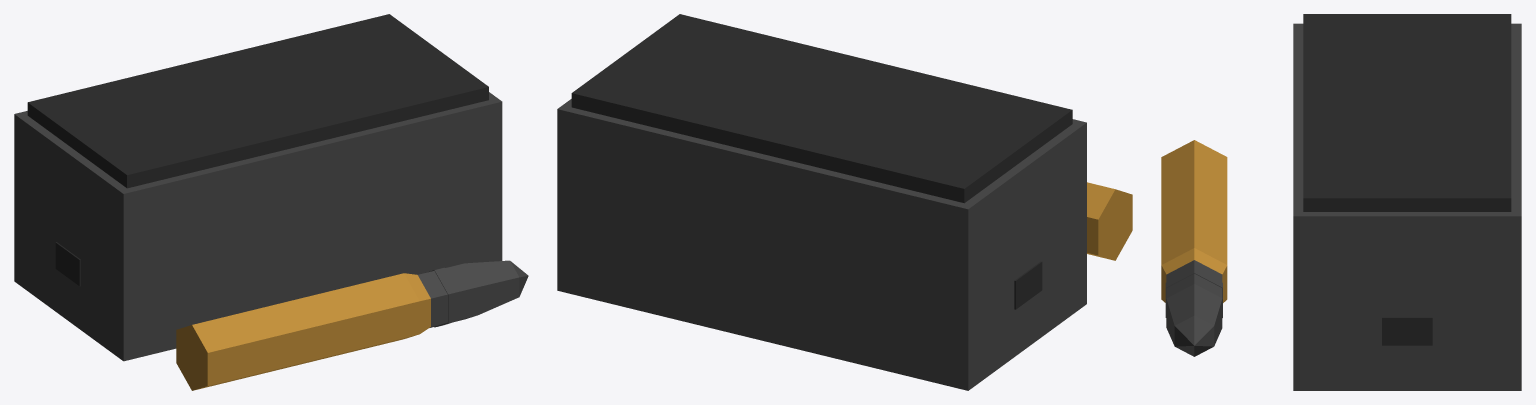
File: ce_ammo_heavy_ap_c.obj
The picture shows the model from 3 angles, left to right: view 1: azimuth 30°, elevation 25°; view 2: azimuth 150°, elevation 25°; view 3: azimuth 270°, elevation 25°; orthographic projection. The views are drawn at different scales.
Visible parts, largest first — view 1: ce_ammo_heavy_ap_c_0, ce_ammo_heavy_ap_c_1, ce_ammo_heavy_ap_c_3, ce_ammo_heavy_ap_c_8, ce_ammo_heavy_ap_c_7, ce_ammo_heavy_ap_c_5, ce_ammo_heavy_ap_c_2, ce_ammo_heavy_ap_c_4, ce_ammo_heavy_ap_c_6; view 2: ce_ammo_heavy_ap_c_0, ce_ammo_heavy_ap_c_1, ce_ammo_heavy_ap_c_3, ce_ammo_heavy_ap_c_2; view 3: ce_ammo_heavy_ap_c_0, ce_ammo_heavy_ap_c_1, ce_ammo_heavy_ap_c_3, ce_ammo_heavy_ap_c_8, ce_ammo_heavy_ap_c_2, ce_ammo_heavy_ap_c_9, ce_ammo_heavy_ap_c_4, ce_ammo_heavy_ap_c_7, ce_ammo_heavy_ap_c_5, ce_ammo_heavy_ap_c_6.
Part boxes in pixels (box(x1,y1,x2,y2)): ce_ammo_heavy_ap_c_0: box(14, 92, 502, 361); ce_ammo_heavy_ap_c_1: box(27, 14, 488, 188); ce_ammo_heavy_ap_c_3: box(176, 273, 419, 390); ce_ammo_heavy_ap_c_8: box(465, 260, 519, 314); ce_ammo_heavy_ap_c_7: box(445, 263, 478, 321); ce_ammo_heavy_ap_c_5: box(418, 270, 447, 327); ce_ammo_heavy_ap_c_2: box(55, 242, 80, 286); ce_ammo_heavy_ap_c_4: box(404, 273, 430, 333); ce_ammo_heavy_ap_c_6: box(428, 267, 458, 327); ce_ammo_heavy_ap_c_0: box(557, 99, 1086, 390); ce_ammo_heavy_ap_c_1: box(571, 14, 1072, 203); ce_ammo_heavy_ap_c_3: box(1087, 182, 1132, 260); ce_ammo_heavy_ap_c_2: box(1014, 261, 1042, 309); ce_ammo_heavy_ap_c_0: box(1293, 23, 1521, 390); ce_ammo_heavy_ap_c_1: box(1303, 14, 1511, 211); ce_ammo_heavy_ap_c_3: box(1161, 140, 1227, 264); ce_ammo_heavy_ap_c_8: box(1166, 284, 1222, 345); ce_ammo_heavy_ap_c_2: box(1382, 317, 1432, 345); ce_ammo_heavy_ap_c_9: box(1174, 315, 1214, 356); ce_ammo_heavy_ap_c_4: box(1161, 248, 1227, 302); ce_ammo_heavy_ap_c_7: box(1166, 273, 1222, 298); ce_ammo_heavy_ap_c_5: box(1166, 260, 1222, 282); ce_ammo_heavy_ap_c_6: box(1165, 268, 1222, 317).
Size of the model in its own units: 0.906 by 0.41 by 0.71.
